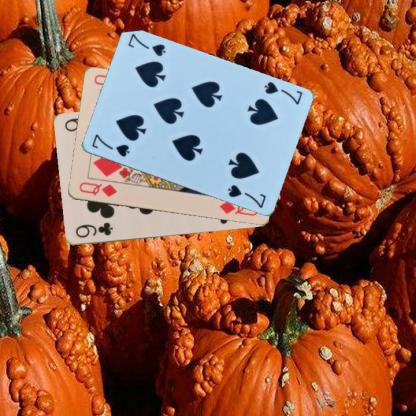7s: (261, 79, 303, 106), (89, 131, 130, 158)
9c: (72, 220, 114, 240)
Qd: (76, 180, 118, 198)
